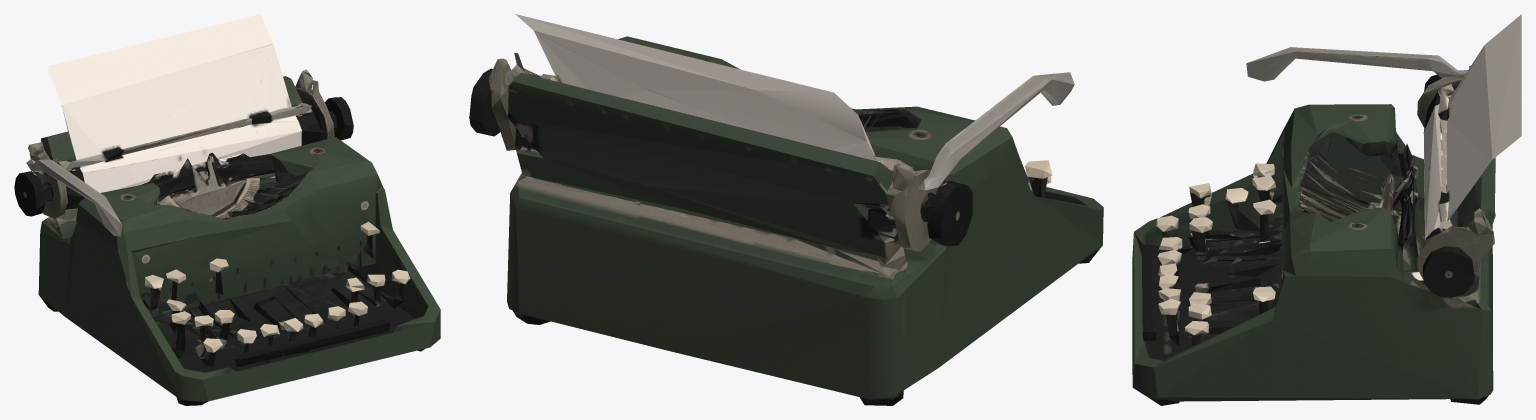
File: typewriter.glb
The picture shows the model from 3 angles, left to right: view 1: azimuth 30°, elevation 25°; view 2: azimuth 150°, elevation 25°; view 3: azimuth 270°, elevation 25°; orthographic projection. The views are drawn at different scales.
Parts seen in each view (by area): view 1: output_unwrapped; view 2: output_unwrapped; view 3: output_unwrapped.
Part boxes in pixels (x1,y1,x2,y2): output_unwrapped: (14, 14, 440, 405); output_unwrapped: (469, 14, 1103, 405); output_unwrapped: (1132, 14, 1521, 405).
Size of the model in its own units: 1.9 by 1.27 by 1.72.
Materials: 1 (1 with a texture image).
